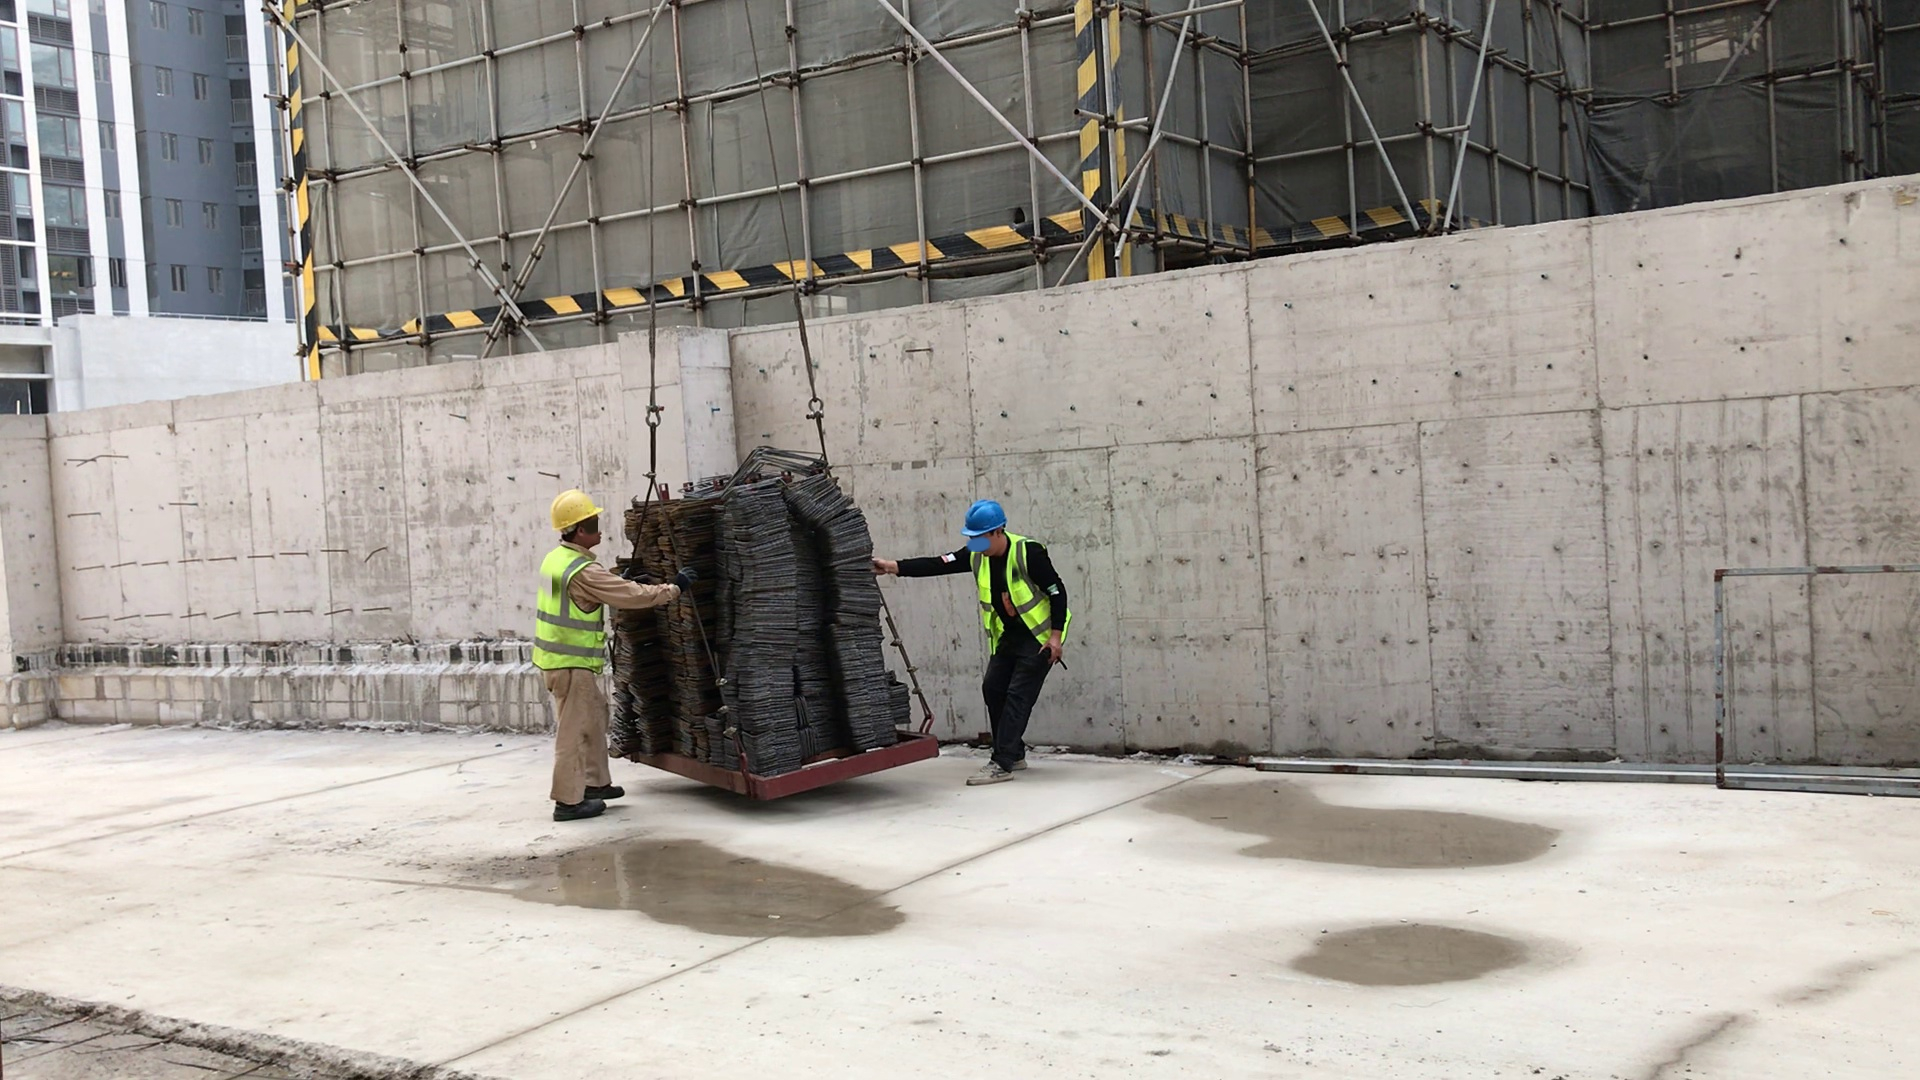helmet: (547, 490, 617, 540), (962, 489, 1016, 535)
person: (894, 476, 1069, 793), (538, 486, 628, 821)
vest: (957, 537, 1071, 648), (541, 551, 615, 672)
